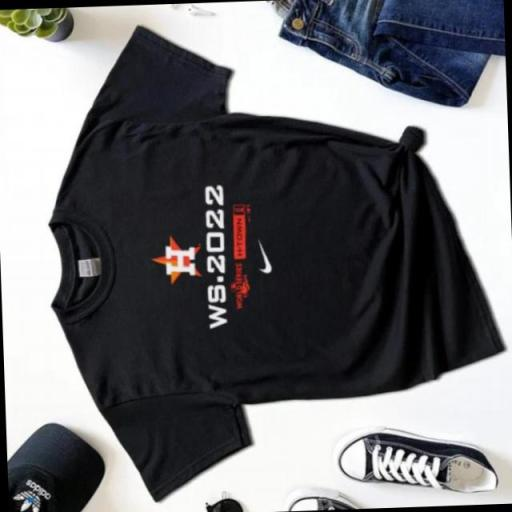Nike: (256, 236, 274, 276)
